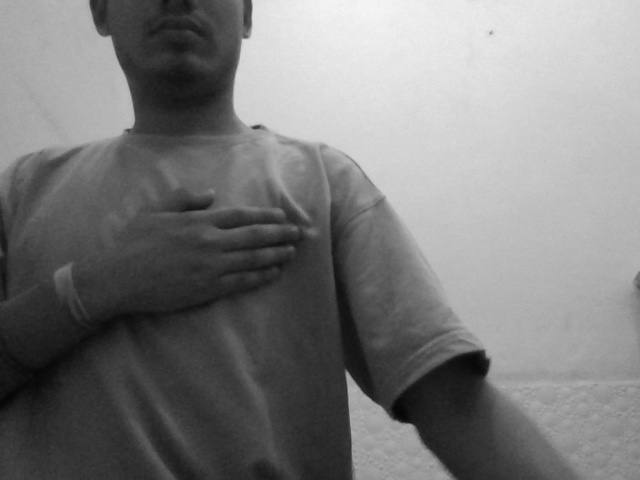Sorry: (88, 159, 310, 347)
